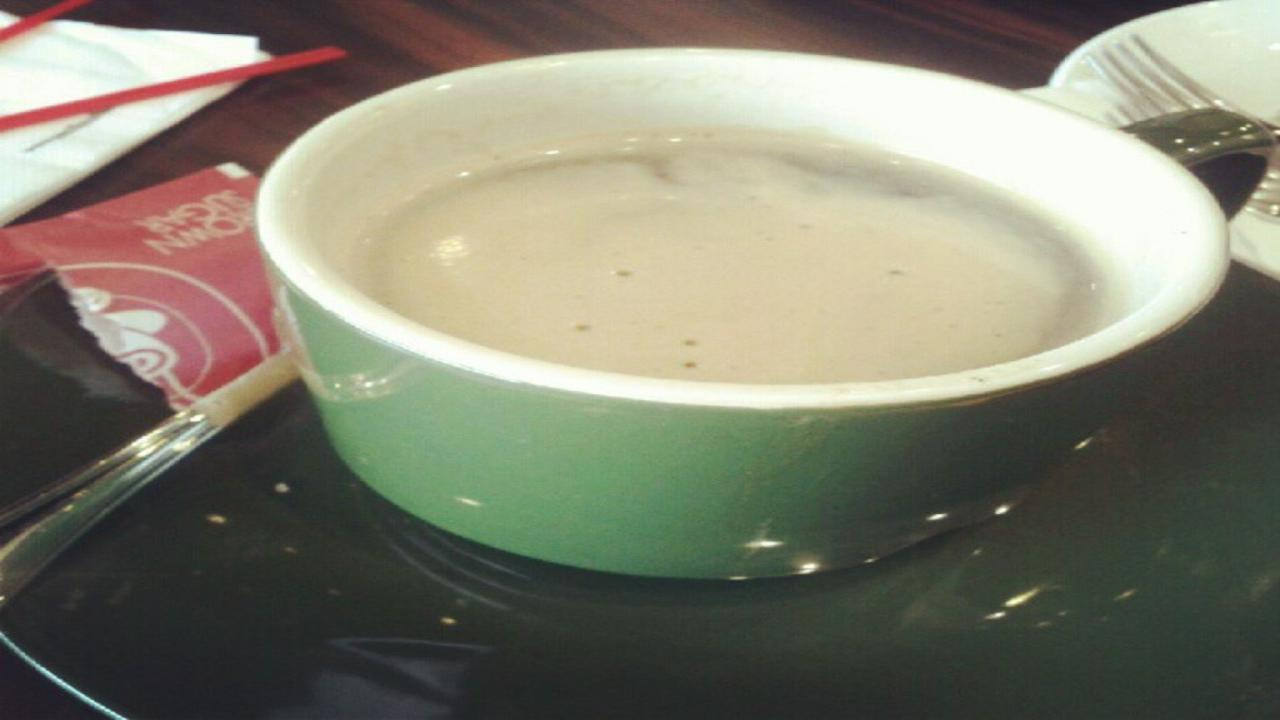chopstick: (0, 43, 346, 130), (0, 0, 108, 52)
